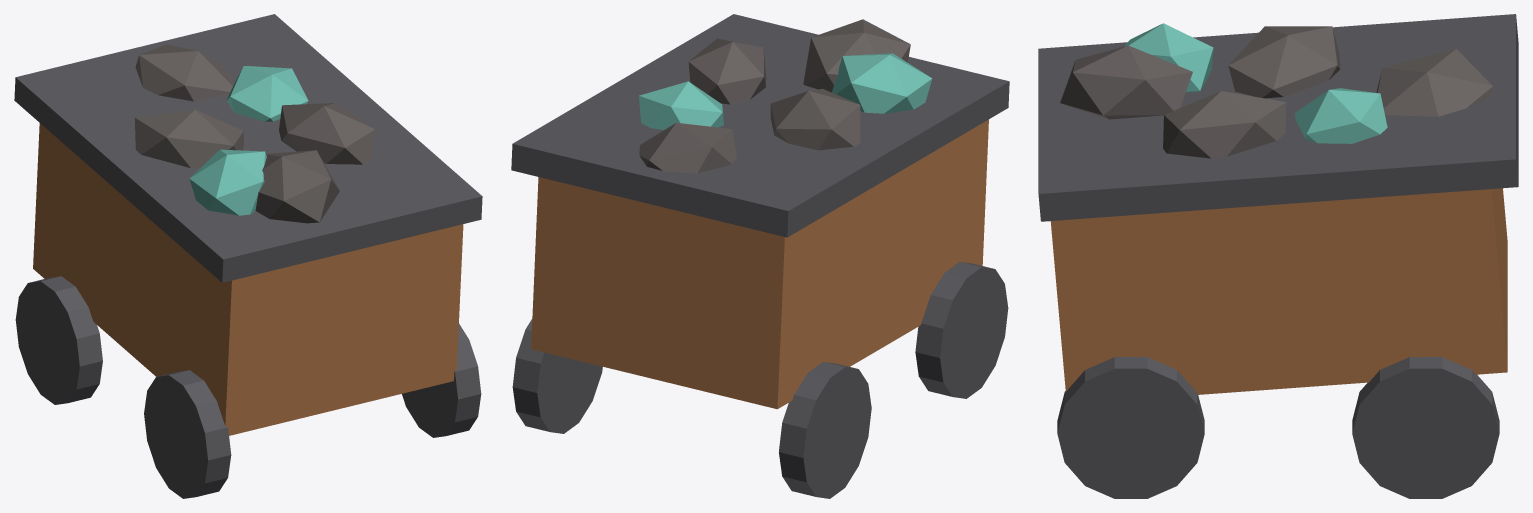
Rendered from ore_cart.glb.
The picture shows the model from 3 angles, left to right: view 1: azimuth 30°, elevation 25°; view 2: azimuth 150°, elevation 25°; view 3: azimuth 270°, elevation 25°; orthographic projection. The views are drawn at different scales.
Visible parts, largest first — view 1: ore_cart; view 2: ore_cart; view 3: ore_cart.
Boxes of the visible parts, x1,y1,x2,y2 form: ore_cart: (14, 14, 482, 498); ore_cart: (511, 14, 1009, 498); ore_cart: (1038, 14, 1518, 498).
Size of the model in its own units: 0.59 by 0.6465 by 0.7815.
